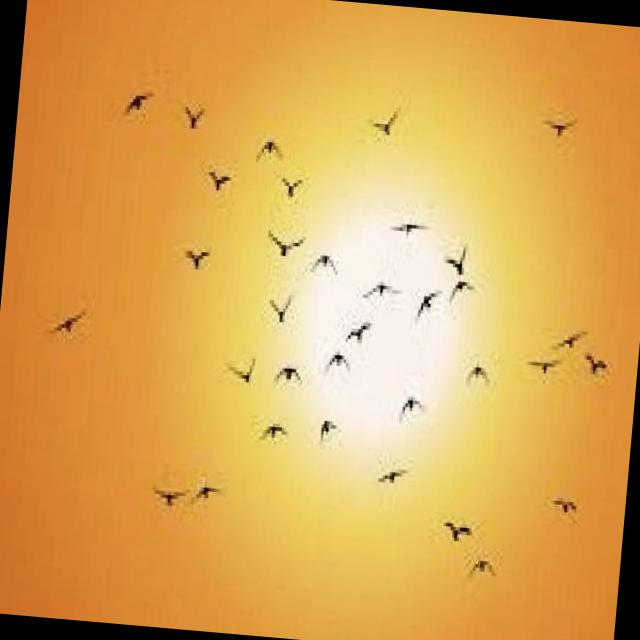bird: (102, 73, 158, 130), (362, 99, 412, 158), (538, 98, 594, 148), (438, 232, 486, 282), (172, 94, 218, 146), (37, 301, 83, 353), (254, 218, 306, 264), (540, 480, 586, 532), (384, 376, 440, 418), (247, 121, 293, 170), (456, 348, 508, 390), (302, 236, 348, 282), (175, 238, 222, 282), (266, 163, 318, 202), (404, 284, 448, 329), (187, 467, 230, 512), (258, 292, 304, 334), (222, 349, 261, 397), (272, 346, 310, 394), (144, 477, 189, 516), (584, 347, 623, 392), (442, 274, 480, 320), (372, 456, 419, 492), (436, 509, 483, 545), (378, 200, 424, 236), (520, 347, 560, 388), (548, 319, 588, 357), (347, 272, 405, 298), (343, 300, 376, 340), (310, 404, 344, 442), (204, 166, 236, 204), (326, 342, 362, 372), (466, 554, 504, 582), (260, 418, 293, 449)
